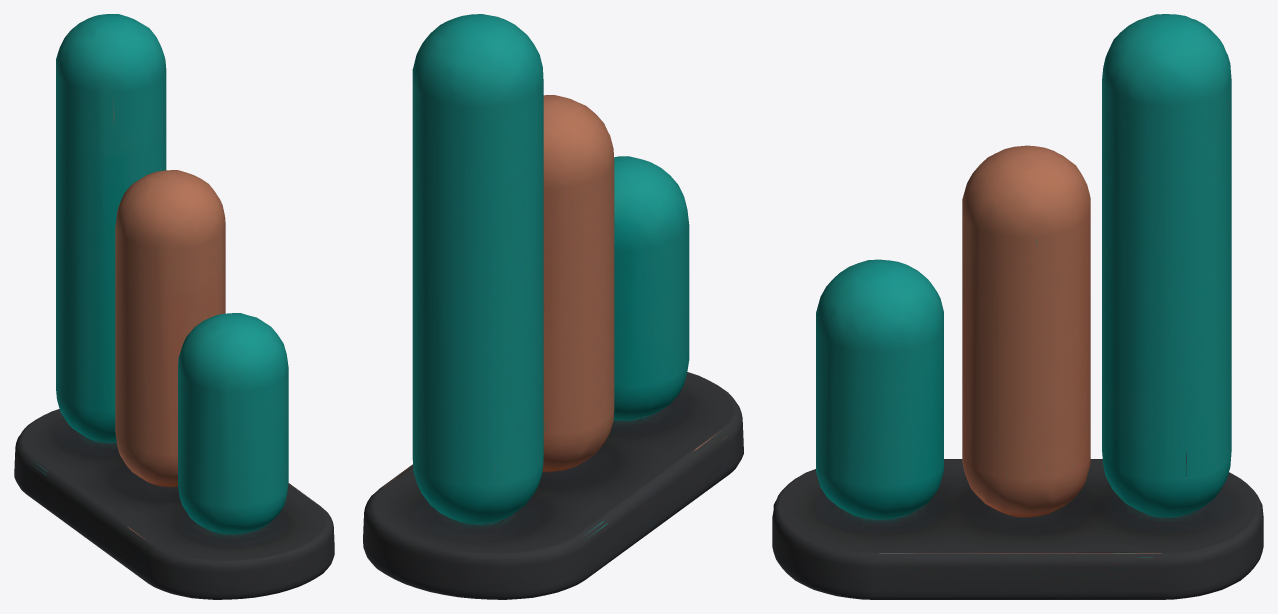
Rendered from icon-chart.glb.
3 views of the same model, side by side, from view 1: azimuth 30°, elevation 25°; view 2: azimuth 150°, elevation 25°; view 3: azimuth 270°, elevation 25° (orthographic). The views are drawn at different scales.
Parts seen in each view (by area): view 1: tripo_node_kodyurd-model-30____________________; view 2: tripo_node_kodyurd-model-30____________________; view 3: tripo_node_kodyurd-model-30____________________.
Part boxes in pixels (x1,y1,x2,y2): tripo_node_kodyurd-model-30____________________: (14,14,334,599); tripo_node_kodyurd-model-30____________________: (363,14,743,599); tripo_node_kodyurd-model-30____________________: (772,14,1263,599).
Bounding box in the file's own units: 0.4121 × 0.998 × 0.8379.
Materials: 1 (1 with a texture image).
